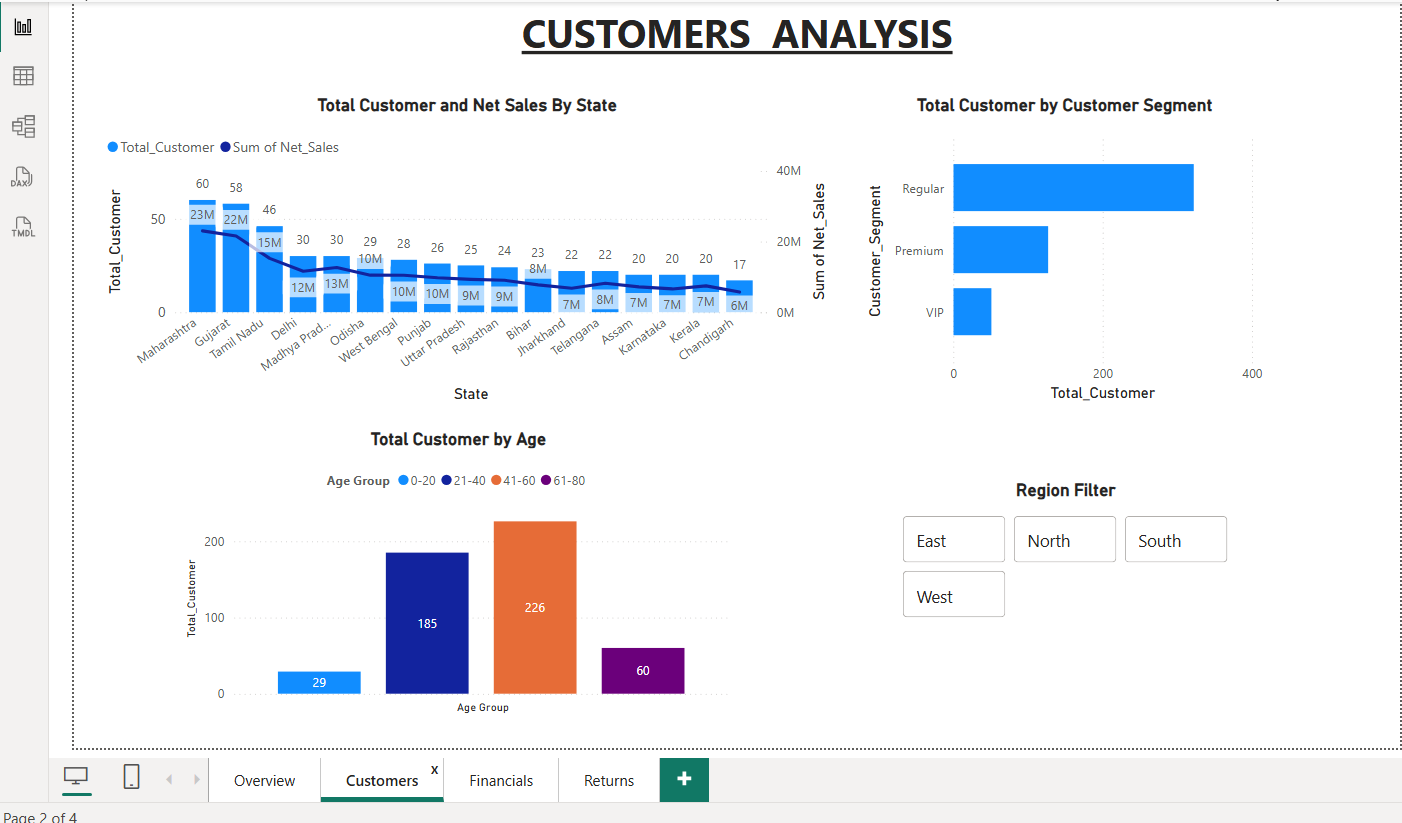

The page's visual inventory and layout, read from the dashboard file:
{"tool":"powerbi","page":{"name":"Customers","canvas":[1280,720],"ordinal":1},"visuals":[{"type":"lineStackedColumnComboChart","title":"Total Customer and Net Sales  By State","fields":{"Category":["Customers.State"],"Y":["Customers.Total_Customer"],"Y2":["Sum(Product_Order_Detail.Net_Sales)"]},"box":[26.5,89.3,705.8,301.6],"z":0},{"type":"barChart","title":"Total Customer by Customer Segment","fields":{"Y":["Customers.Total_Customer"],"Category":["Customers.Customer_Segment"]},"box":[760.1,89.3,392.1,301.6],"z":1000},{"type":"columnChart","title":"Total Customer by Age","fields":{"Y":["Customers.Total_Customer"],"Category":["Customers.Age Group"],"Series":["Customers.Age Group"]},"box":[102.5,411.4,537,280],"z":2000},{"type":"advancedSlicerVisual","title":"Region Filter","fields":{"Values":["Customers.Region"]},"box":[795,460.9,324.5,139.9],"z":3000},{"type":"textbox","box":[0,0,1280,62.7],"z":4000}]}

Visuals, with their boxes on the page's 1280x720 design canvas (x1, y1, x2, y2). These are canvas units, not pixel positions in the 1402x823 screenshot, which may show the page scaled, cropped or inside an application window:
"Total Customer and Net Sales  By State" lineStackedColumnComboChart: 26 89 732 391
"Total Customer by Customer Segment" barChart: 760 89 1152 391
"Total Customer by Age" columnChart: 102 411 640 691
"Region Filter" advancedSlicerVisual: 795 461 1120 601
textbox: 0 0 1280 63
